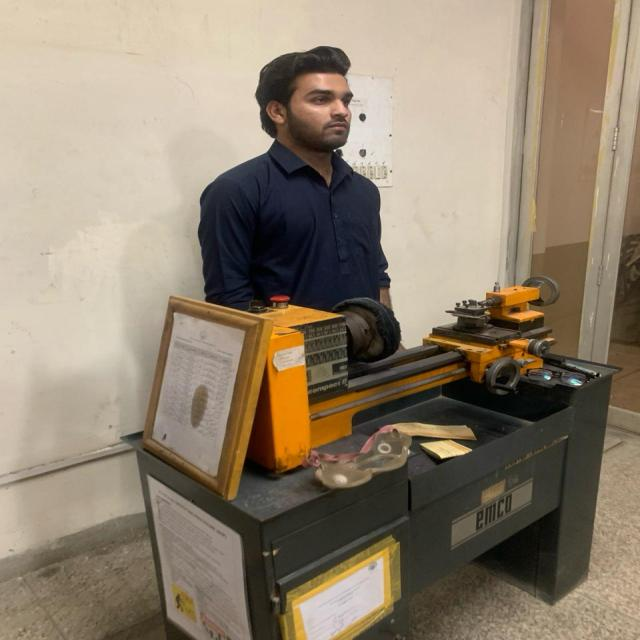dress: (195, 133, 397, 313)
